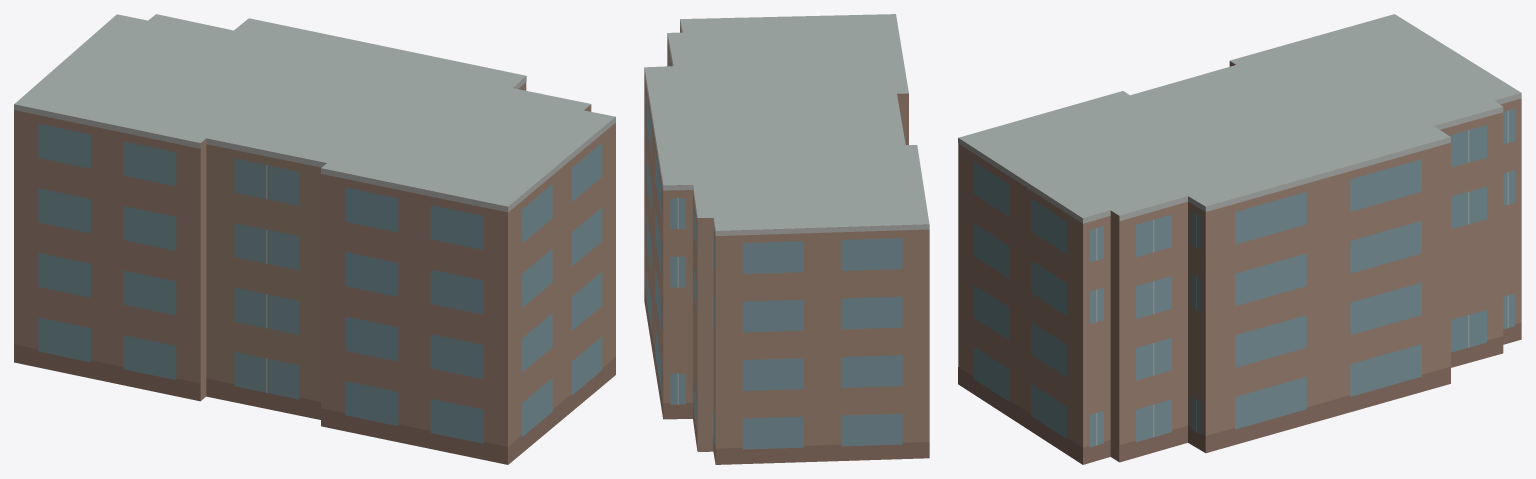
Rendered from survey-upis-32846948.glb.
The picture shows the model from 3 angles, left to right: view 1: azimuth 30°, elevation 25°; view 2: azimuth 150°, elevation 25°; view 3: azimuth 270°, elevation 25°; orthographic projection. The views are drawn at different scales.
Visible parts, largest first — view 1: survey-upis-32846948.tmp; view 2: survey-upis-32846948.tmp; view 3: survey-upis-32846948.tmp.
Part boxes in pixels (left/top/right/bottom): survey-upis-32846948.tmp: left=14, top=14, right=615, bottom=464; survey-upis-32846948.tmp: left=644, top=14, right=929, bottom=464; survey-upis-32846948.tmp: left=958, top=14, right=1521, bottom=464.
Size of the model in its own units: 19.56 by 11 by 22.8.
